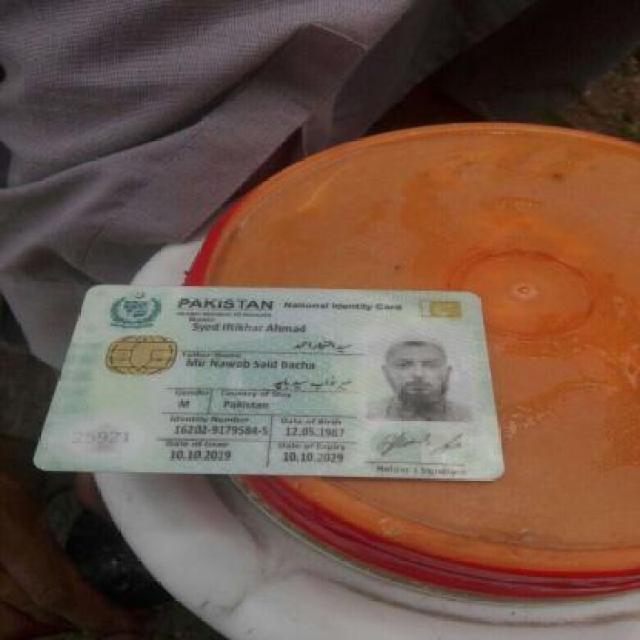Front: (28, 278, 515, 482)
